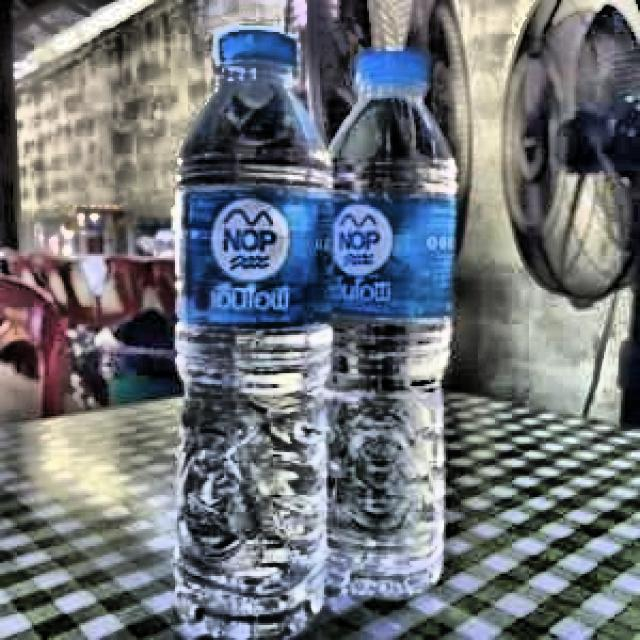Bottles: (165, 22, 342, 640)
